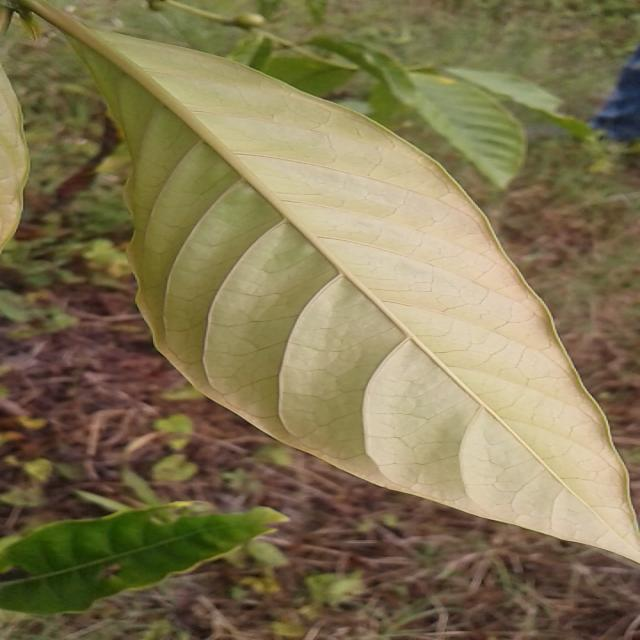Sanas: (41, 4, 640, 570)
